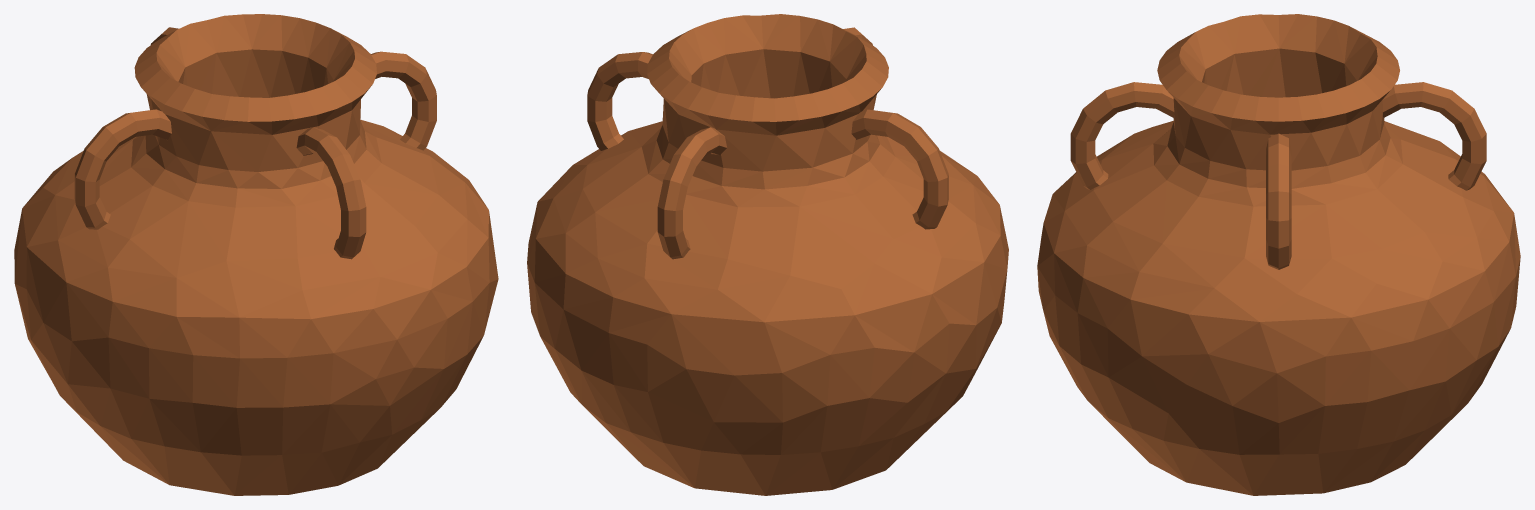
File: Pottery 7_3.fbx
3 views of the same model, side by side, from view 1: azimuth 30°, elevation 25°; view 2: azimuth 150°, elevation 25°; view 3: azimuth 270°, elevation 25° (orthographic).
Visible parts, largest first — view 1: Pottery 7_3; view 2: Pottery 7_3; view 3: Pottery 7_3.
Boxes of the visible parts, x1,y1,x2,y2 form: Pottery 7_3: [14, 14, 498, 495]; Pottery 7_3: [527, 14, 1008, 495]; Pottery 7_3: [1037, 14, 1520, 495].
Bounding box in the file's own units: 53.28 × 45.94 × 52.98.
